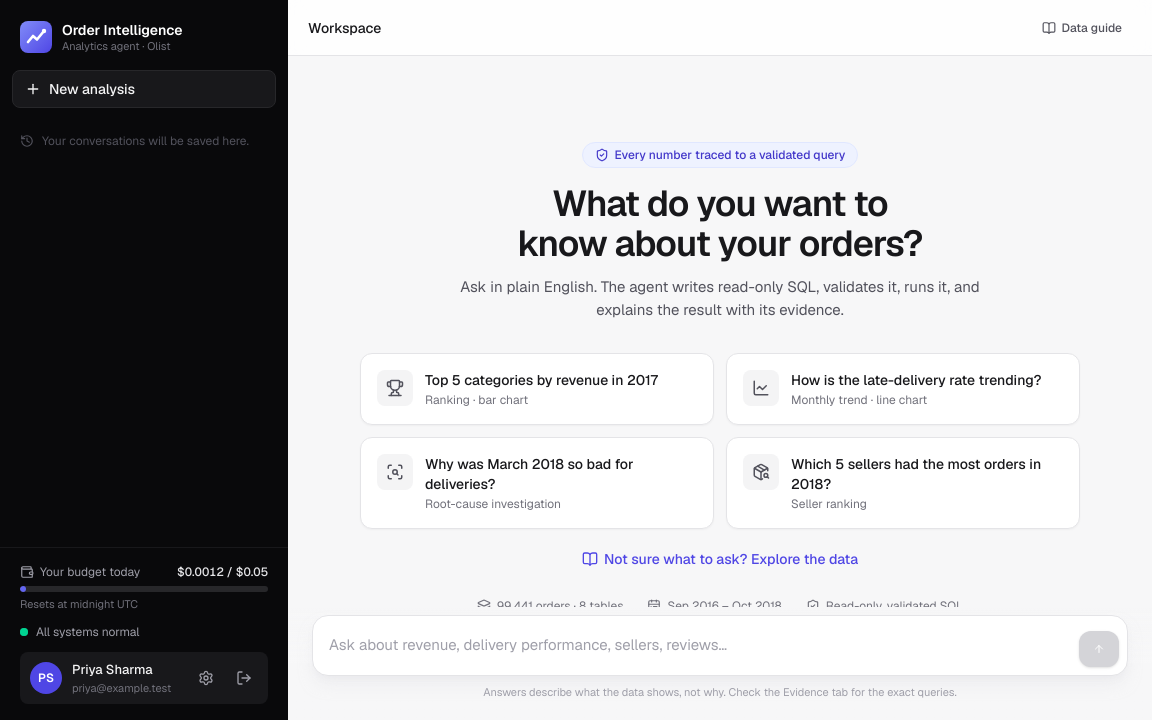
it: Data guide › opens from the header and shows counts from the catalog, not hard-coded text
The width and height of the screenshot is (1152, 720).
Check: the heading "What do you want to know about your orders?" is shown, box [517, 180, 923, 267]
Click the button "Data guide" at (1082, 28), box [1032, 14, 1132, 42]
(page scrolled)
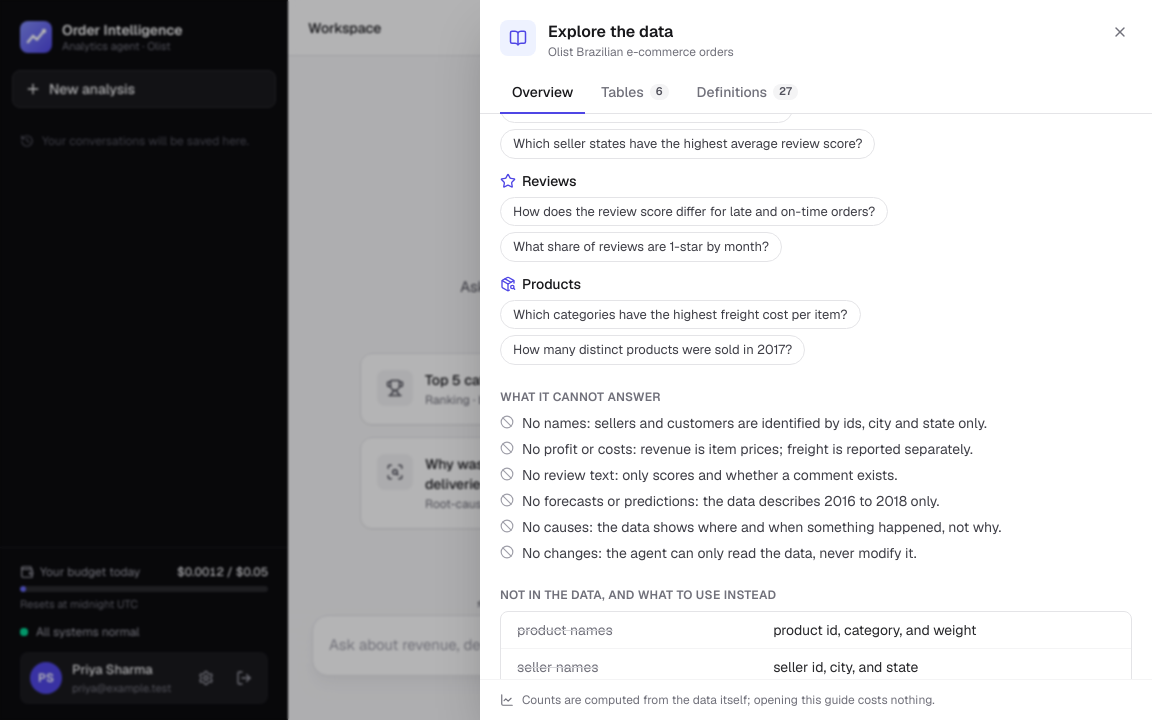
Check: the heading "What it cannot answer" is shown, box [500, 389, 661, 405]
